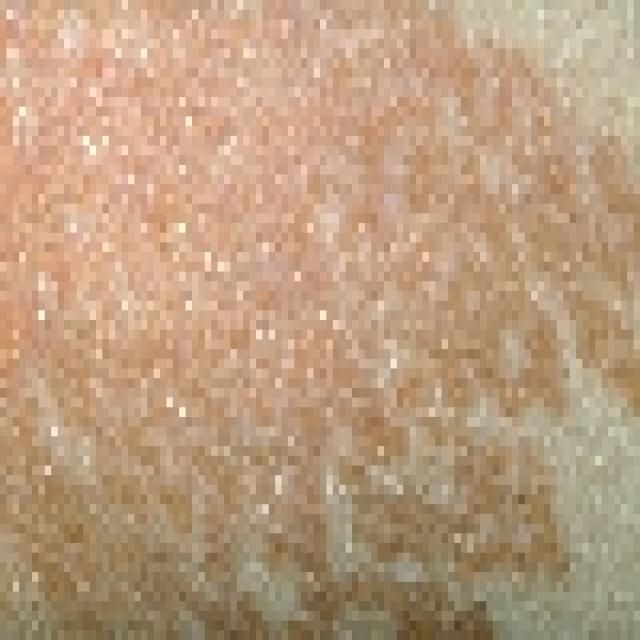lupus: (2, 1, 629, 621)
